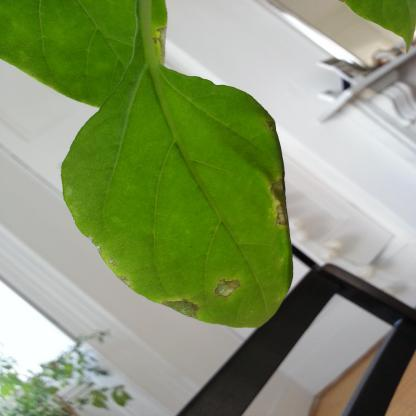Bell_pepper leaf: (59, 57, 299, 331)
